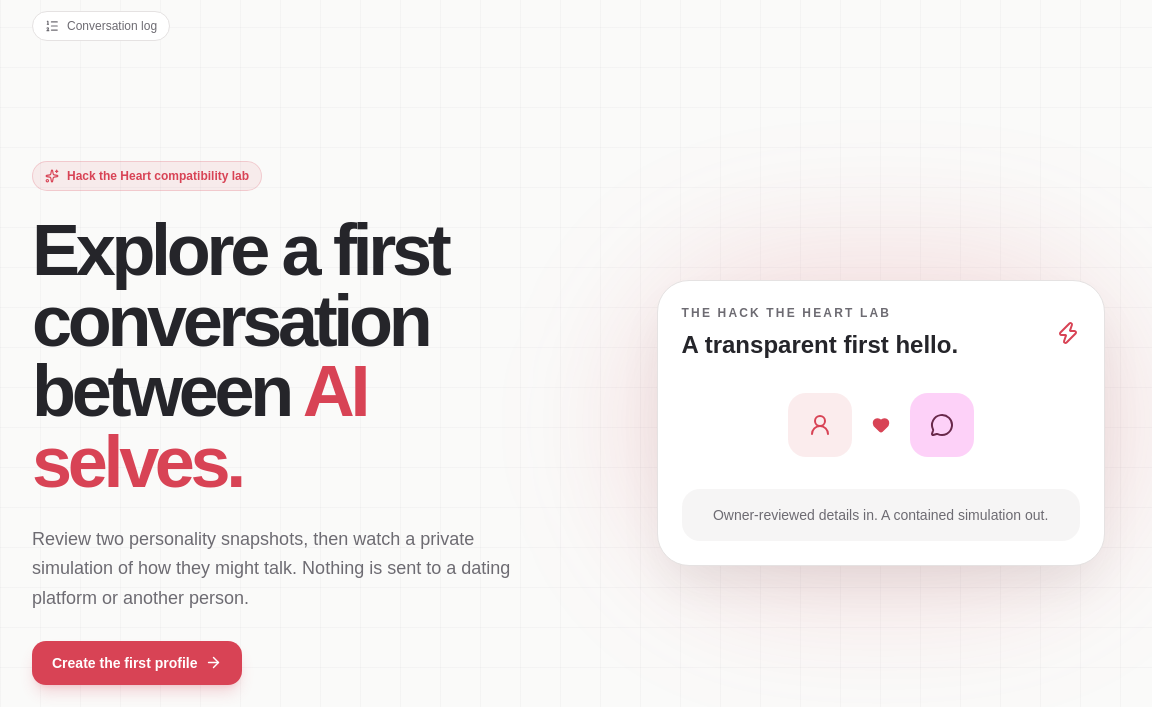
Test case: lets Person One edit and save another stored profile
Later steps or results of the test are not shown.
What coordinates should you click on to do the following:
click the button "Create the first profile"
I would click on:
 (137, 663)
Its box is [32,641,242,685].
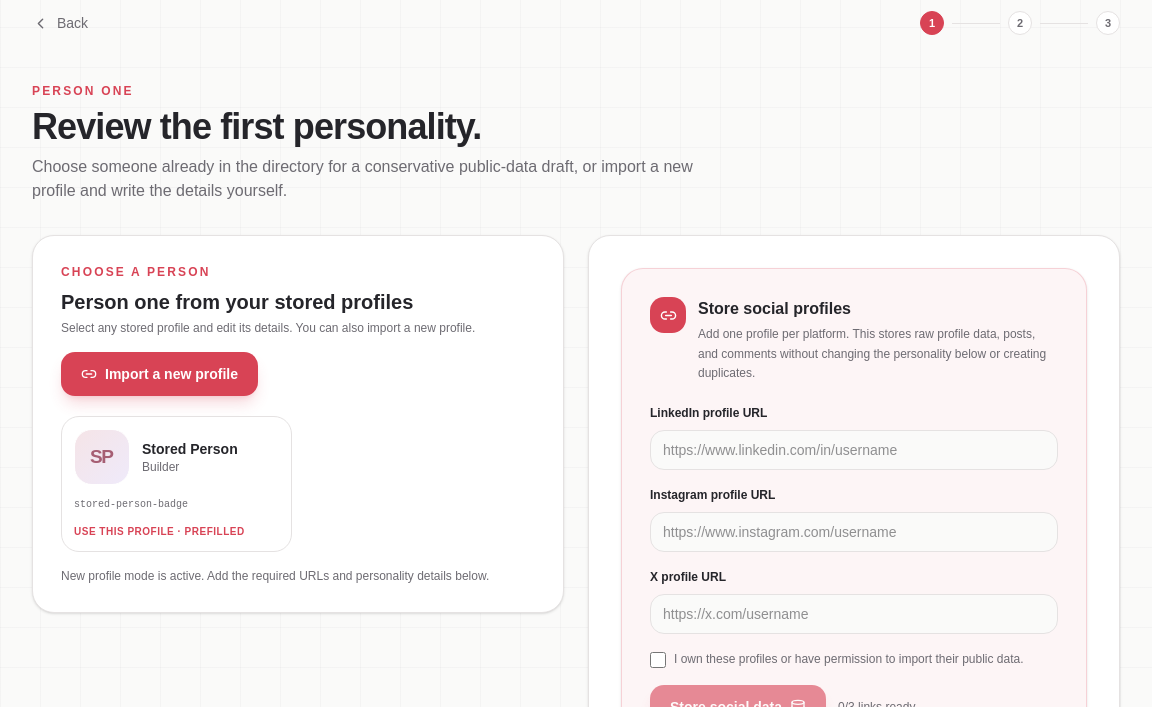
Check: the text "Stored Person" is shown, box [142,439,238,459]
What coordinates should you click on to do the following:
click the button that starts with "Stored Person"
I would click on:
 (176, 484)
Its box is [61,416,292,552].
(page scrolled)
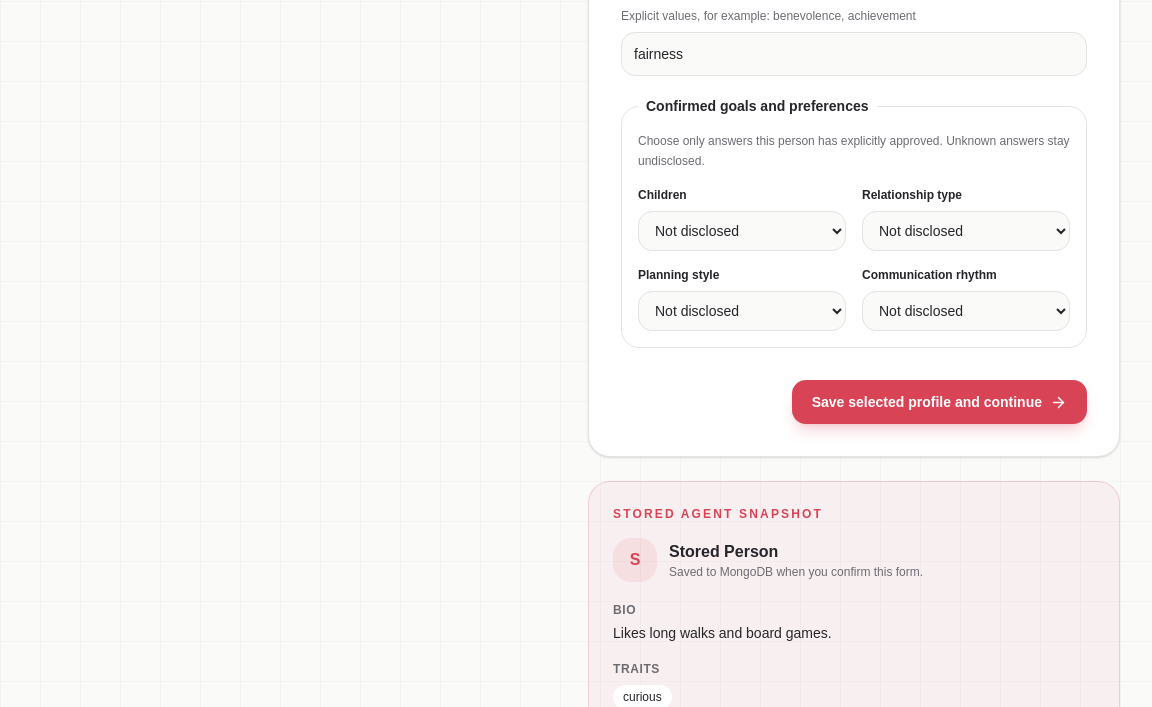
Check: the button "Save selected profile and continue" is enabled, box [792,380,1087,424]
